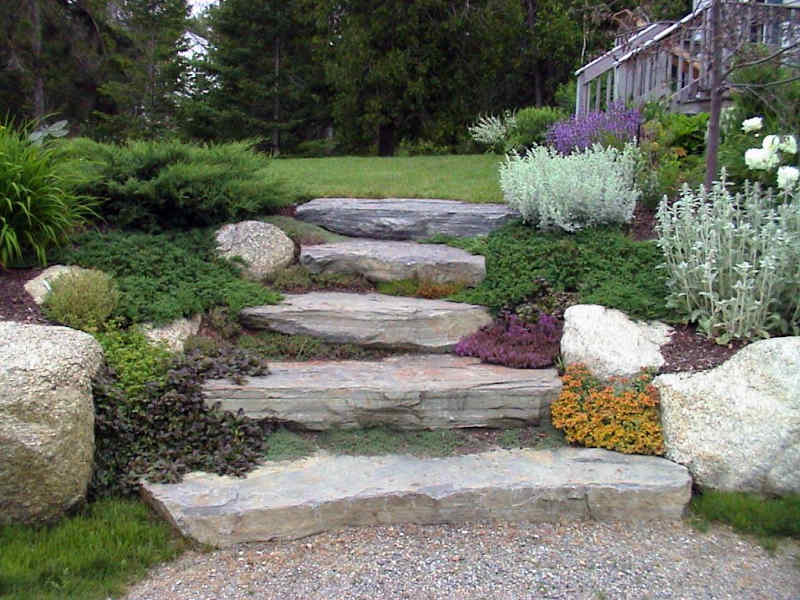upstairs: (270, 282, 491, 549)
